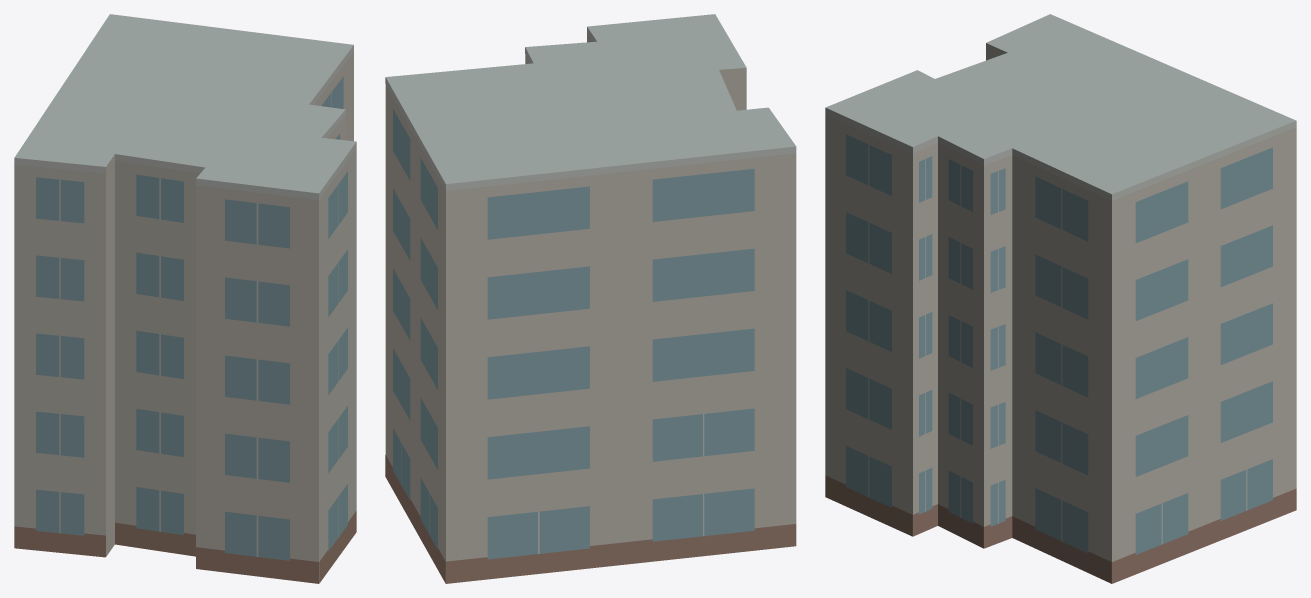
File: survey-upis-32891737.glb
3 views of the same model, side by side, from view 1: azimuth 30°, elevation 25°; view 2: azimuth 150°, elevation 25°; view 3: azimuth 270°, elevation 25° (orthographic). The views are drawn at different scales.
Parts seen in each view (by area): view 1: survey-upis-32891737.tmp; view 2: survey-upis-32891737.tmp; view 3: survey-upis-32891737.tmp.
Part boxes in pixels (x1,y1,x2,y2): survey-upis-32891737.tmp: (14, 14, 356, 583); survey-upis-32891737.tmp: (385, 14, 796, 583); survey-upis-32891737.tmp: (825, 14, 1296, 583).
Size of the model in its own units: 14.31 by 14.4 by 15.79.
